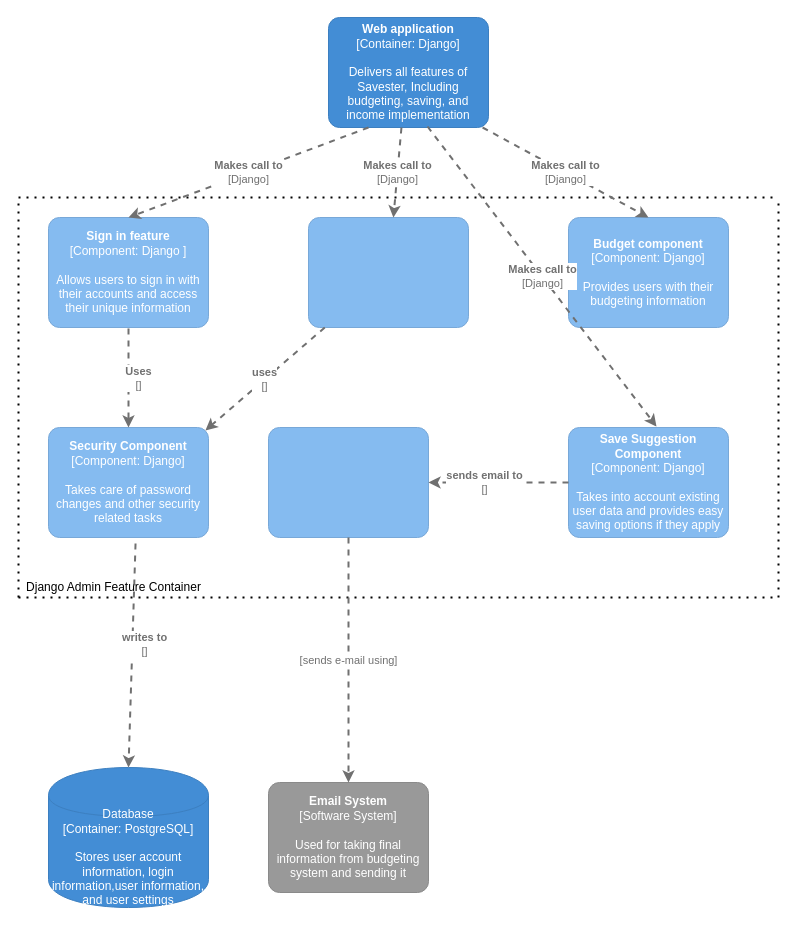
Image size: 797x925. Some labels were removed from this diagram. Each missing label, with the centre of its shape:
Email component [Component: technology] makes call to send email to users: point (348, 482)
Forgot password feature [Component: Django] Users can retrieve their passwords: point (388, 272)
